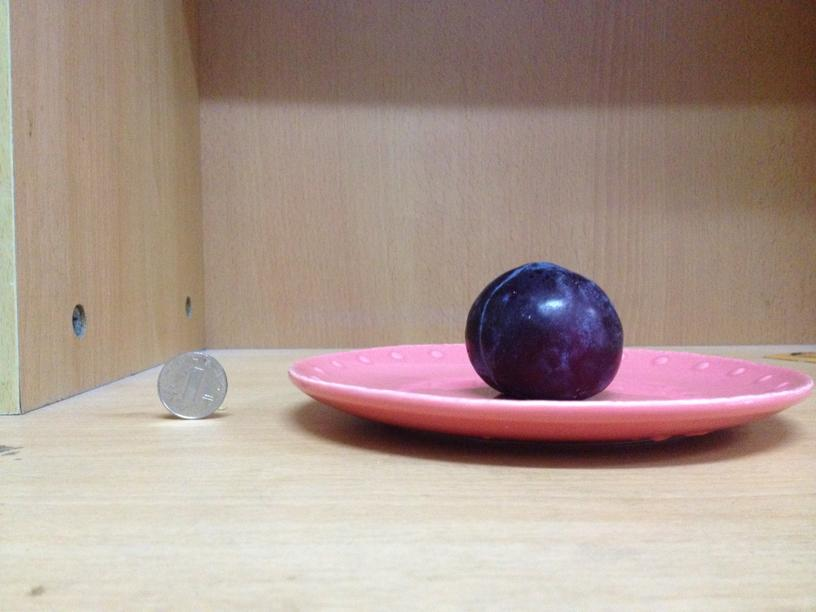coin: (156, 356, 228, 418)
plum: (459, 260, 626, 400)
